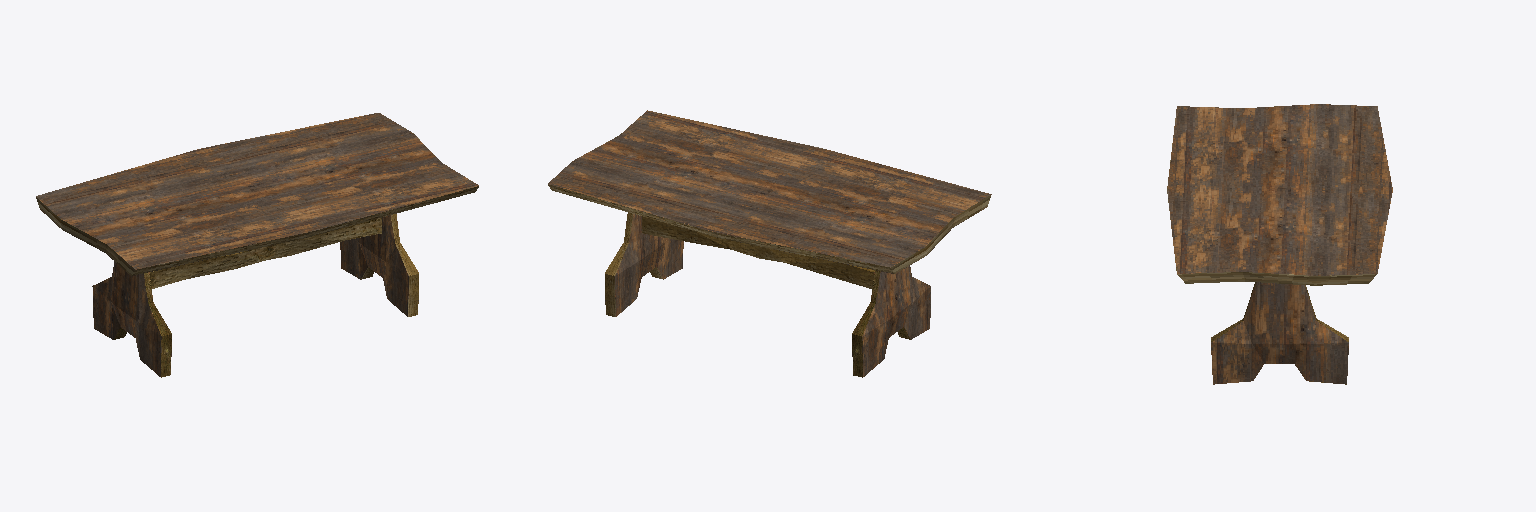
3 renders of one model, left to right at view 1: azimuth 30°, elevation 25°; view 2: azimuth 150°, elevation 25°; view 3: azimuth 270°, elevation 25°, orthographic.
Visible parts, largest first — view 1: Mesa_Cube; view 2: Mesa_Cube; view 3: Mesa_Cube.
Part boxes in pixels (left/top/right/bottom): Mesa_Cube: left=36, top=113, right=478, bottom=377; Mesa_Cube: left=548, top=110, right=991, bottom=377; Mesa_Cube: left=1167, top=104, right=1392, bottom=384.
Bounding box in the file's own units: 11.81 × 4.22 × 6.56.
Materials: 1 (1 with a texture image).